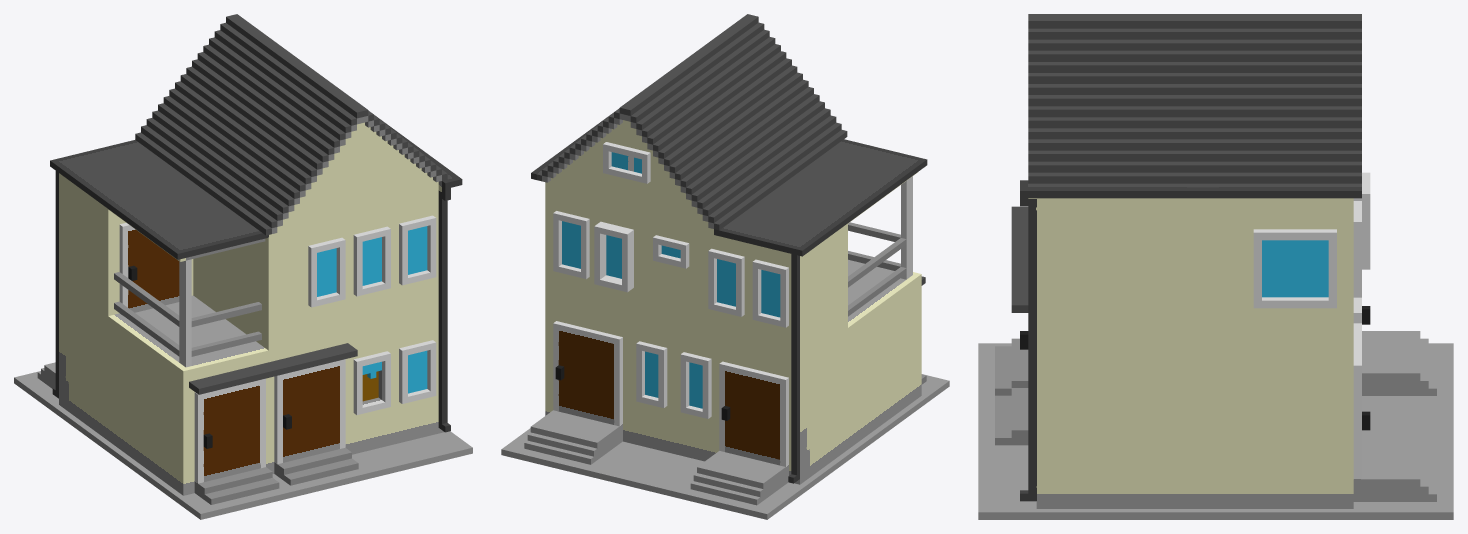
The model's file is obj_house8a.dae.
3 renders of one model, left to right at view 1: azimuth 30°, elevation 25°; view 2: azimuth 150°, elevation 25°; view 3: azimuth 270°, elevation 25°, orthographic. The views are drawn at different scales.
Visible parts, largest first — view 1: obj_house8a; view 2: obj_house8a; view 3: obj_house8a.
Boxes of the visible parts, x1,y1,x2,y2 form: obj_house8a: [14, 14, 472, 519]; obj_house8a: [501, 14, 949, 519]; obj_house8a: [978, 14, 1453, 519].
Size of the model in its own units: 4.9 by 5.7 by 5.9.
Materials: 1 (1 with a texture image).
